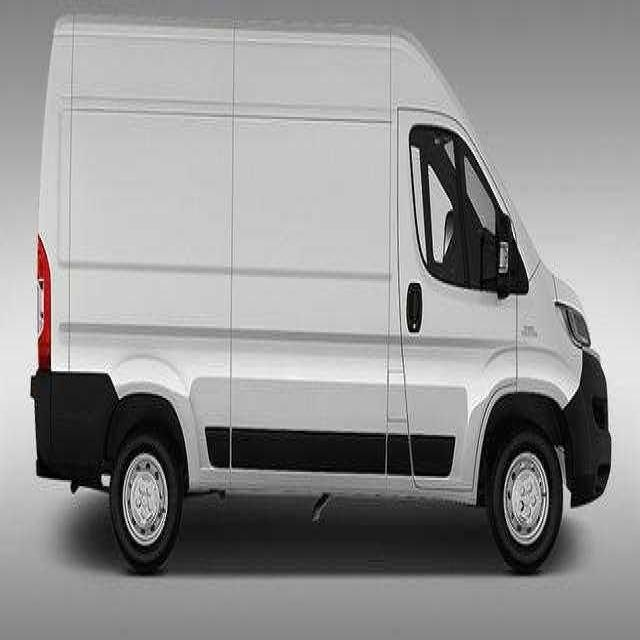Van: (28, 10, 616, 579)
